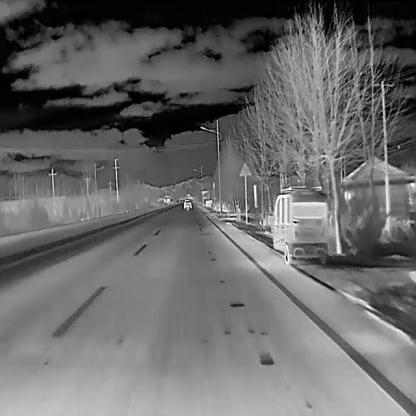car: (263, 184, 331, 265), (183, 198, 192, 209)
